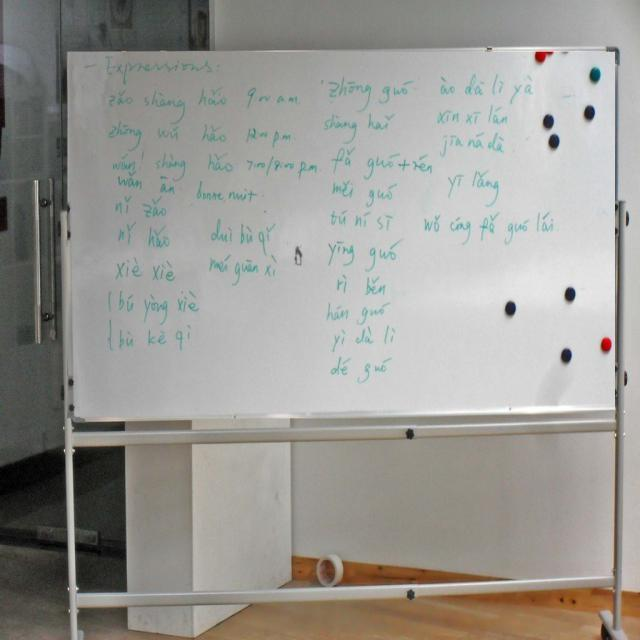Whiteboard: (67, 46, 619, 420)
